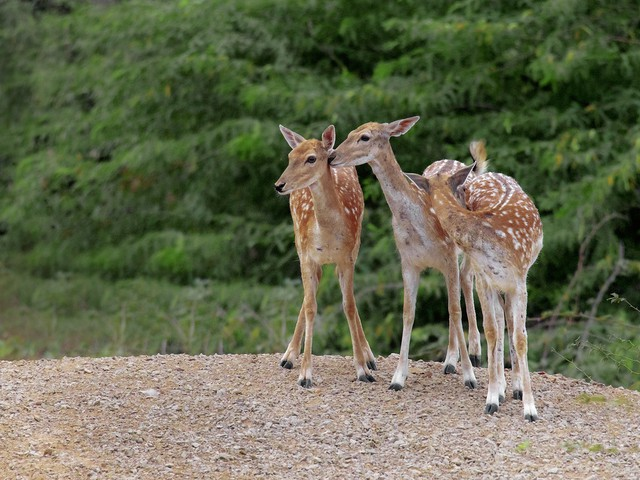deer: (338, 106, 550, 426), (258, 108, 369, 390)
